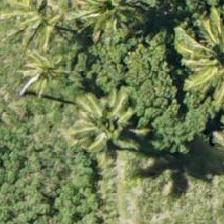coconut_tree: (39, 78, 129, 168), (5, 21, 95, 111), (0, 0, 74, 53)
